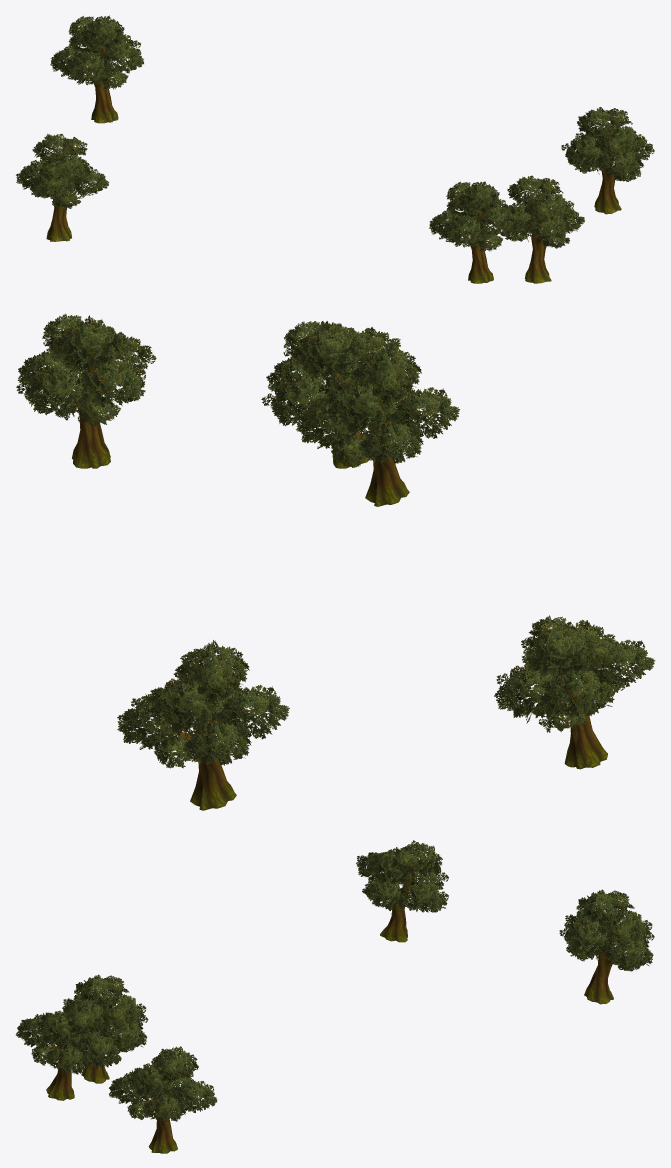
File: fantasy_forest_trees.glb
3 renders of one model, top to bottom at view 1: azimuth 30°, elevation 25°; view 2: azimuth 150°, elevation 25°; view 3: azimuth 270°, elevation 25°, orthographic. The views are drawn at different scales.
Parts seen in each view (by area): view 1: tree_1_LOD0 (×5); view 2: tree_1_LOD0 (×5); view 3: tree_1_LOD0 (×5).
Part boxes in pixels (bbox=[...]): tree_1_LOD0 (×5): bbox=[16, 15, 654, 283]; tree_1_LOD0 (×5): bbox=[16, 313, 655, 810]; tree_1_LOD0 (×5): bbox=[16, 840, 654, 1153].
Size of what is drawn, in the model's own units: 24.01 by 5.24 by 25.07.
2 materials, 2 textured.
